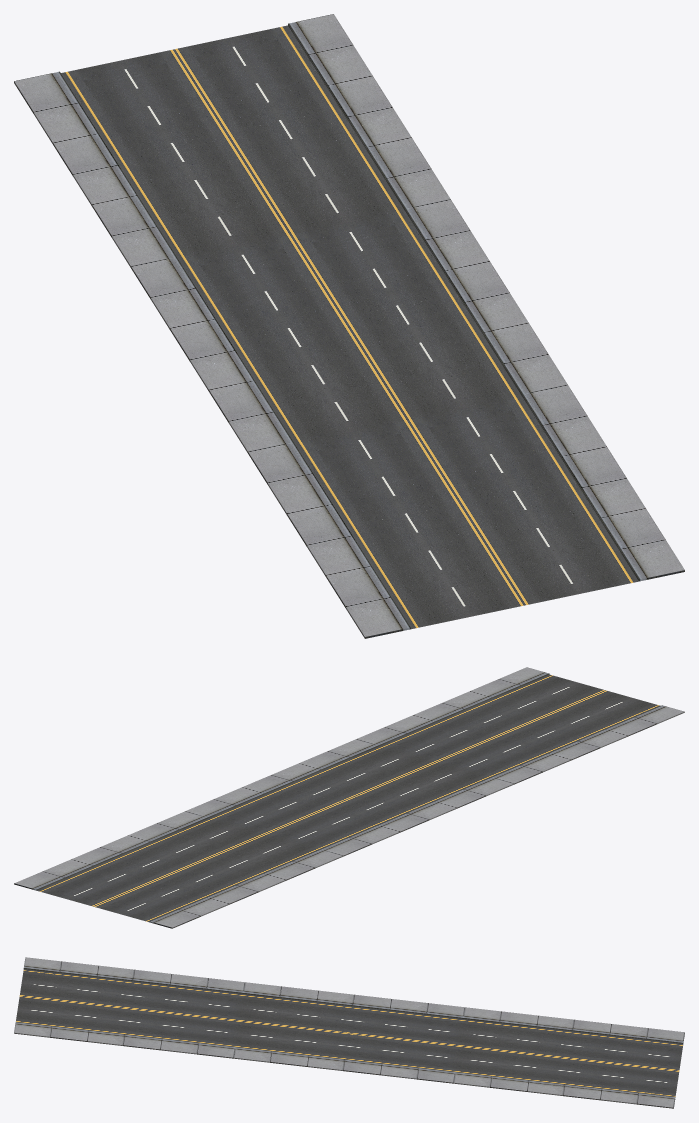
Rendered from road12.glb.
3 views of the same model, one above another, from view 1: azimuth 30°, elevation 25°; view 2: azimuth 150°, elevation 25°; view 3: azimuth 270°, elevation 25° (orthographic). The views are drawn at different scales.
Visible parts, largest first — view 1: ro_12; view 2: ro_12; view 3: ro_12.
Part boxes in pixels (x1,y1,x2,y2): ro_12: [14, 14, 684, 638]; ro_12: [14, 667, 684, 928]; ro_12: [14, 957, 684, 1108].
Size of the model in its own units: 60.33 by 0.1636 by 114.
1 material, 1 textured.
